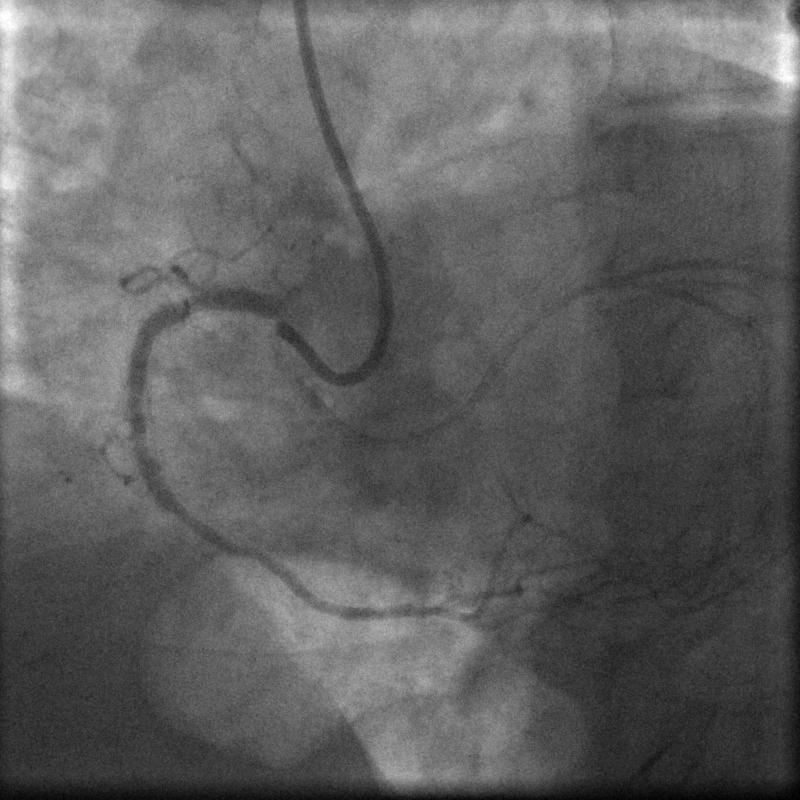Stenosis: (127, 386, 151, 467)
